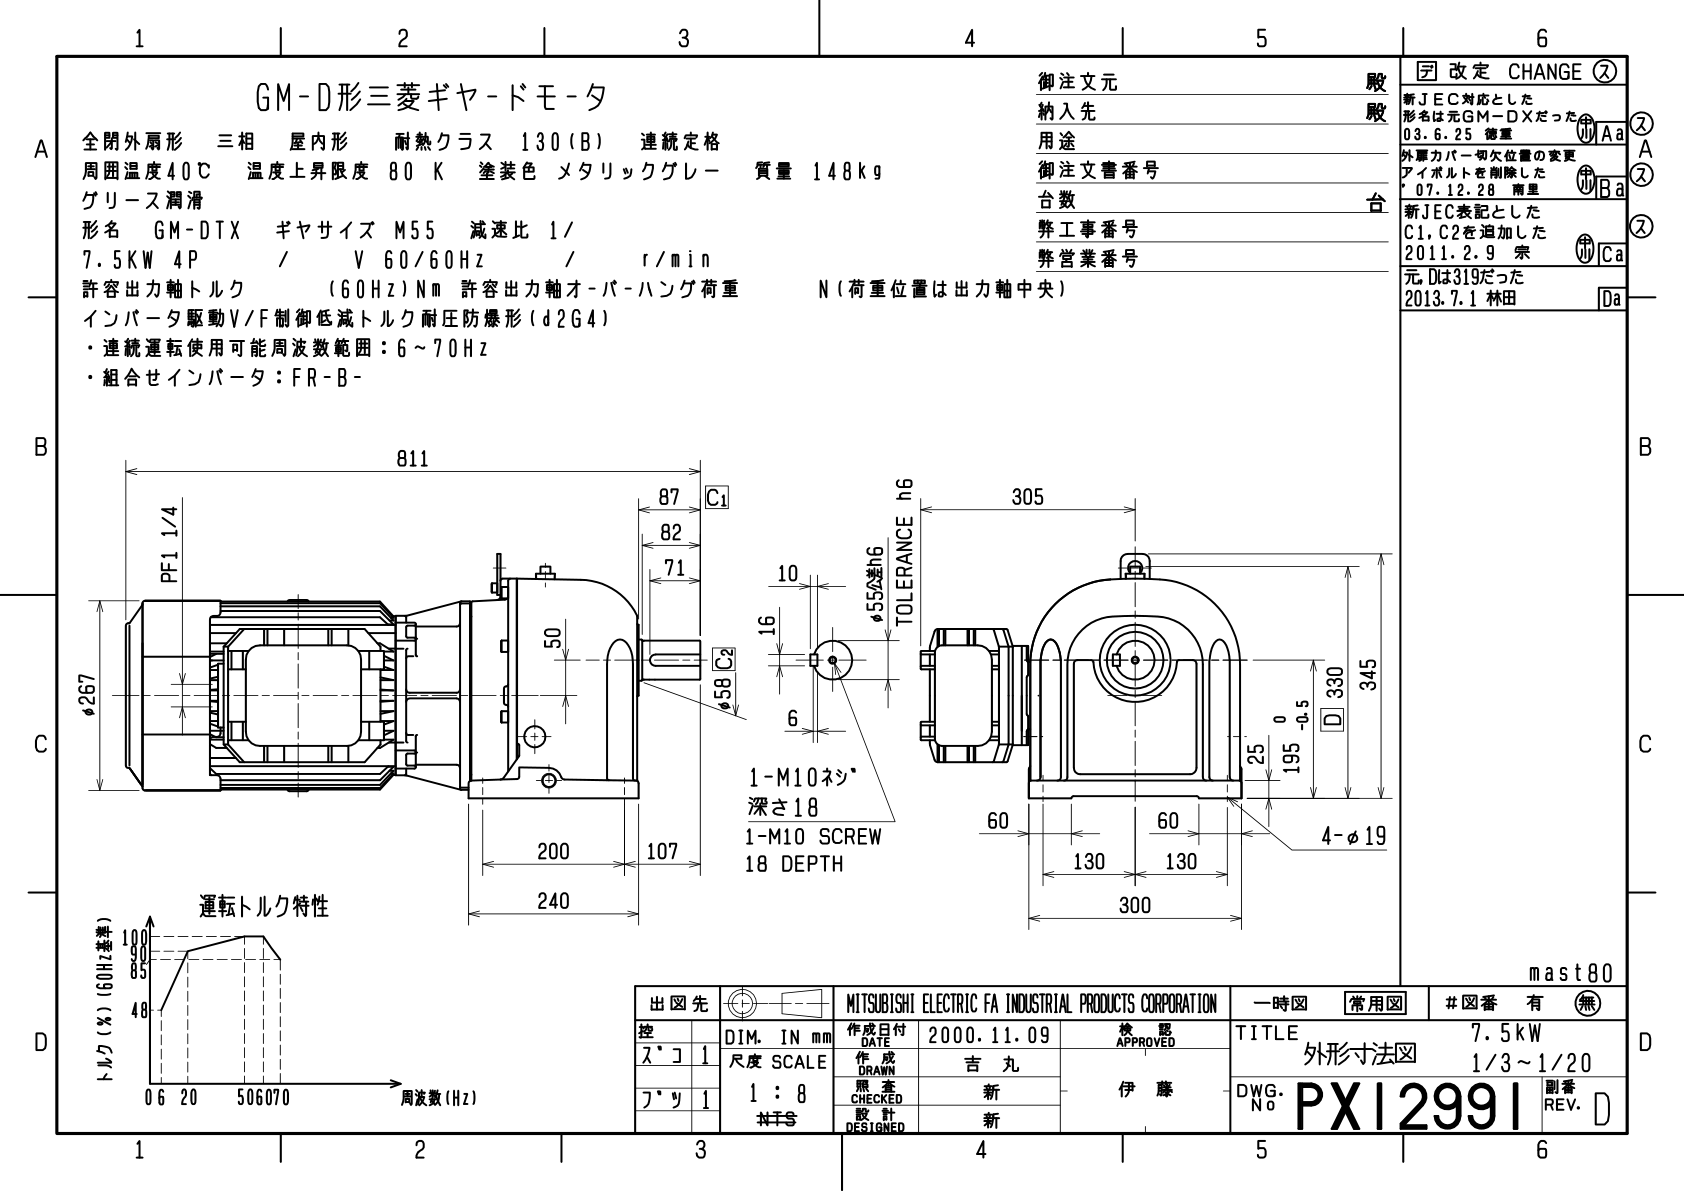GM_D_制御屋内_三相_脚: (1, 1, 1676, 1177)
